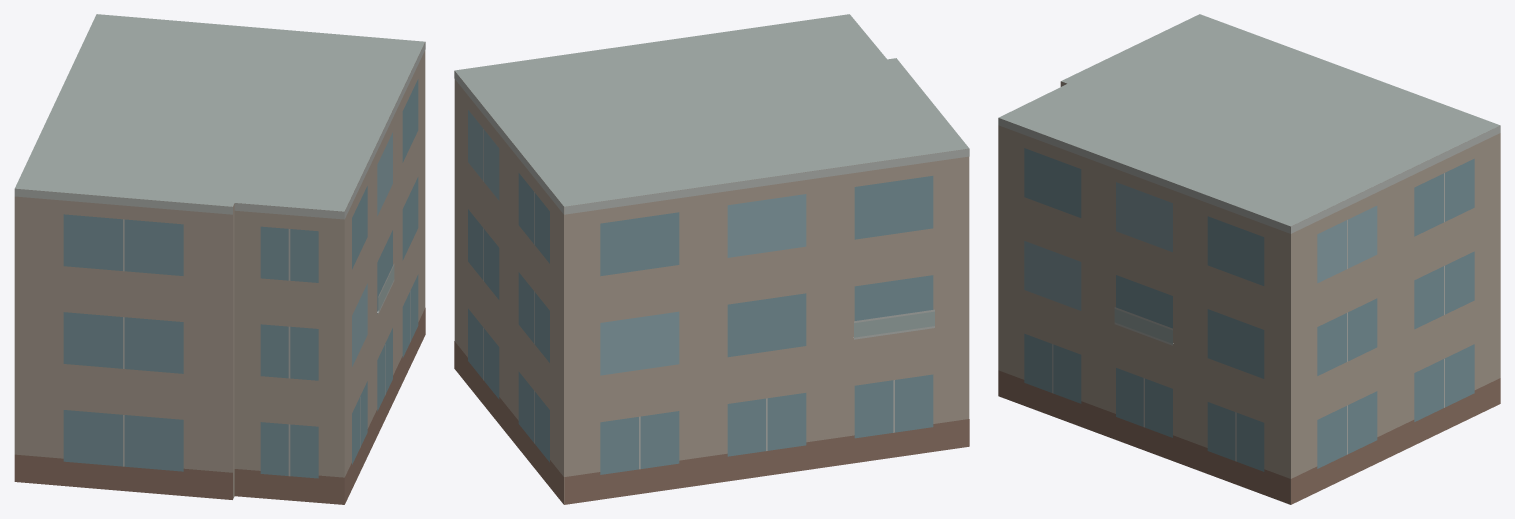
The model's file is survey-upis-32494096.glb.
The picture shows the model from 3 angles, left to right: view 1: azimuth 30°, elevation 25°; view 2: azimuth 150°, elevation 25°; view 3: azimuth 270°, elevation 25°; orthographic projection. The views are drawn at different scales.
Visible parts, largest first — view 1: survey-upis-32494096.tmp; view 2: survey-upis-32494096.tmp; view 3: survey-upis-32494096.tmp.
Part boxes in pixels (x1,y1,x2,y2): survey-upis-32494096.tmp: [14, 14, 425, 504]; survey-upis-32494096.tmp: [454, 14, 969, 504]; survey-upis-32494096.tmp: [998, 14, 1500, 504].
Bounding box in the file's own units: 14.9 × 9.1 × 14.89.
